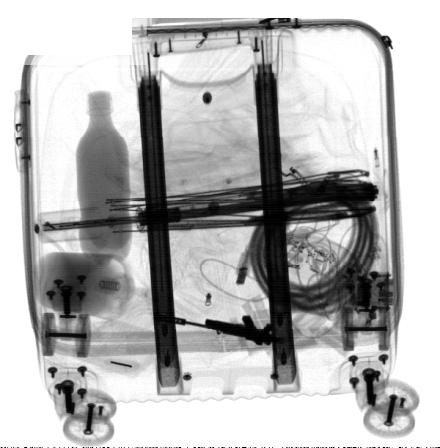Gun: (156, 313, 287, 348)
